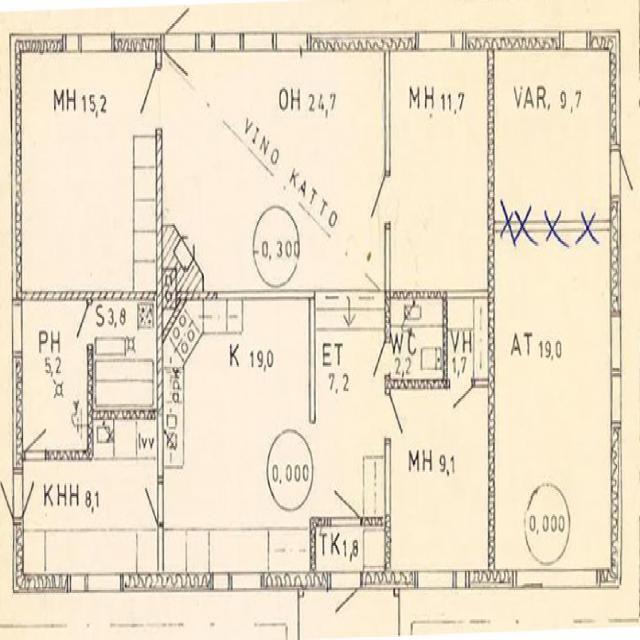door: (164, 35, 195, 107), (330, 570, 360, 640), (125, 70, 163, 124), (331, 466, 360, 528), (164, 0, 195, 51), (11, 472, 46, 515), (358, 174, 390, 220), (132, 481, 162, 522), (383, 395, 412, 436), (448, 377, 472, 426), (64, 306, 91, 344), (23, 412, 44, 459), (363, 339, 390, 375), (0, 472, 22, 515)
